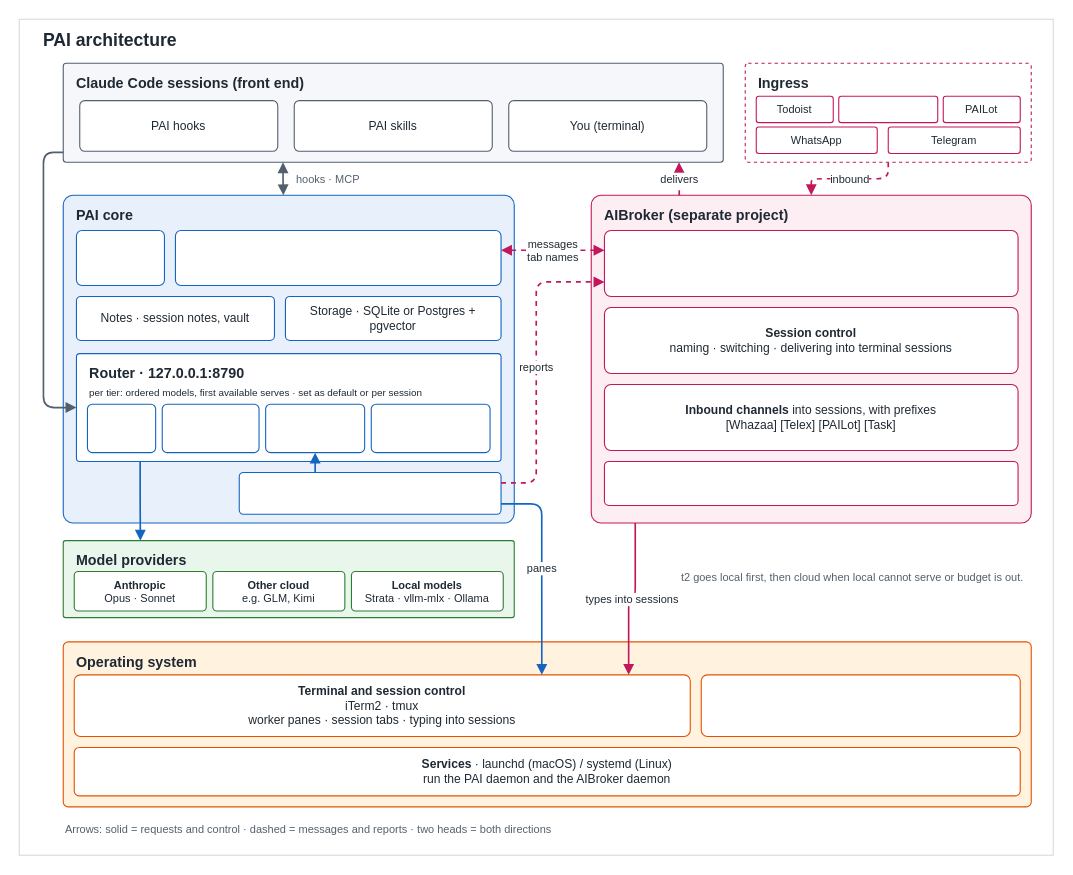
Image size: 1073x875. Some labels were removed from this diagram. The centre of each missing label's shape, as x and y in pixels:
"AIBroker daemon" goes at pixel 810 482.
"Cockpit budget · cache models · routing" goes at pixel 430 428.
"Git worktrees on disk one per worker (worker/ID)" goes at pixel 860 705.
"GitHub issues" goes at pixel 888 109.
"Messaging hub session messages · worker reports" goes at pixel 810 262.
"pai CLI" goes at pixel 119 257.
"PAI daemon memory index · embeddings scheduler · MCP server" goes at pixel 337 257.
"t0 session" goes at pixel 121 428.
"t1 orchestrator" goes at pixel 210 428.
"t2 workers local first" goes at pixel 315 428.
"Workers · pane + git worktree pai worker run / merge" goes at pixel 369 492.
